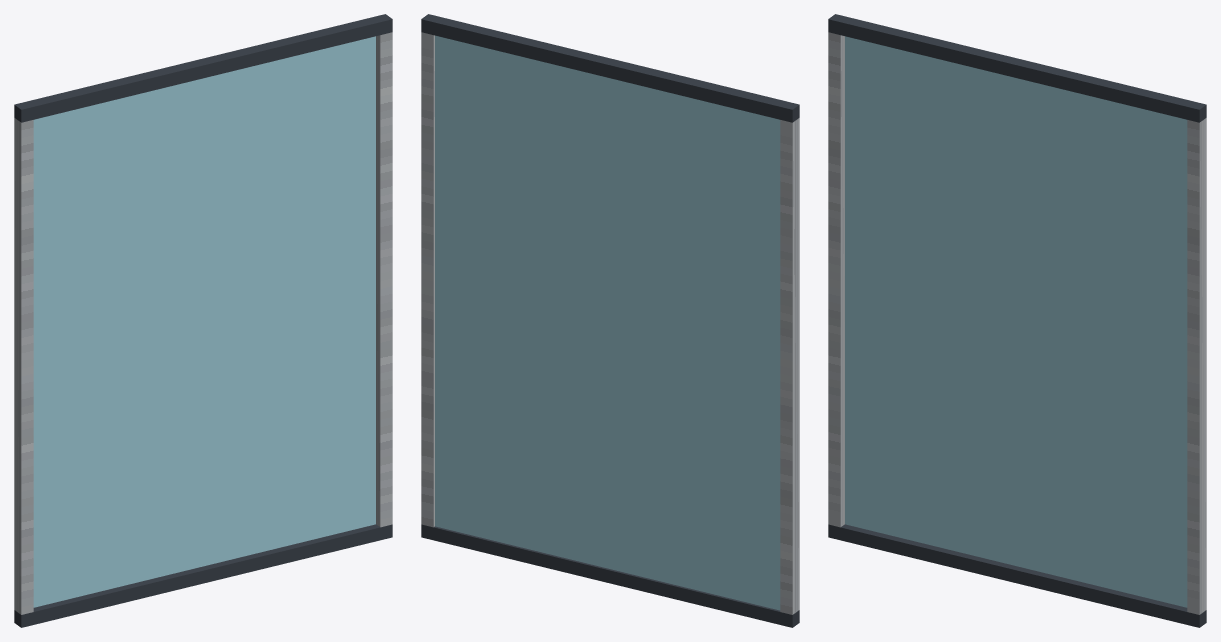
The model's file is glass-3x4.glb.
3 views of the same model, side by side, from view 1: azimuth 30°, elevation 25°; view 2: azimuth 150°, elevation 25°; view 3: azimuth 330°, elevation 25° (orthographic).
Parts seen in each view (by area): view 1: Glass3x4; view 2: Glass3x4; view 3: Glass3x4.
Part boxes in pixels (x1,y1,x2,y2): Glass3x4: (14,14,392,627); Glass3x4: (421,14,799,627); Glass3x4: (828,14,1206,627).
Bounding box in the file's own units: 3 × 4 × 0.1.
3 materials, 1 textured.
